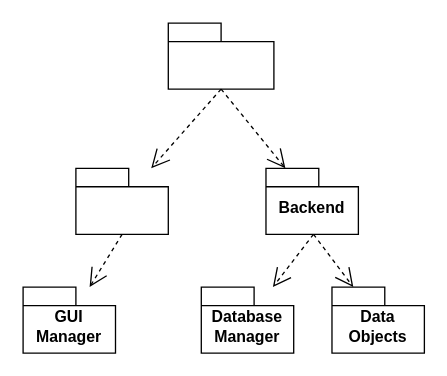
Some shapes in this 447 by 376 pixel diagram are drawn without their labels. Here are the shapes that lost their labels. From the top down, the box of each, then its label:
(167, 22, 274, 89): NGO-AOMSYS
(75, 167, 168, 234): Frontend
